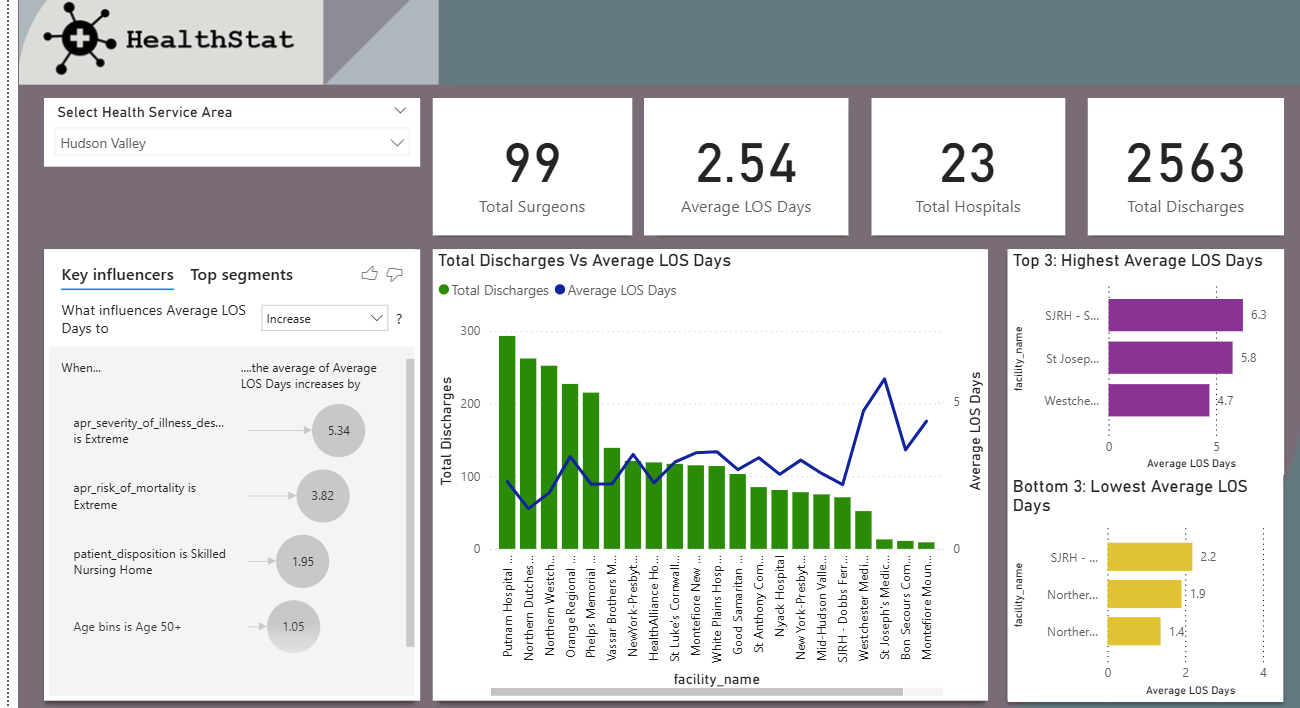

What the dashboard file says about the page in this screenshot:
{"tool":"powerbi","page":{"name":"LOS Comparison","canvas":[1280,720],"ordinal":1},"visuals":[{"type":"image","box":[0,0,1280.3,720.2],"z":0},{"type":"lineStackedColumnComboChart","title":"Total Discharges Vs Average LOS Days ","fields":{"Category":["hospital_discharges.facility_name"],"Y2":["_Measure.Average LOS Days"],"Y":["_Measure.Total Discharges"]},"box":[414.4,260.7,543.4,441.9],"z":1000},{"type":"card","fields":{"Values":["_Measure.Total Surgeons"]},"box":[414.4,112.5,194.9,134.5],"z":2000},{"type":"slicer","fields":{"Values":["hospital_discharges.health_service_area"]},"box":[34.3,112.5,367.8,67.2],"z":3000},{"type":"clusteredBarChart","title":"Bottom 3:  Lowest Average LOS Days ","fields":{"Category":["hospital_discharges.facility_name"],"Y":["_Measure.Average LOS Days"]},"box":[977.3,481.8,269.7,221.2],"z":4000},{"type":"clusteredBarChart","title":"Top 3: Highest Average LOS Days","fields":{"Category":["hospital_discharges.facility_name"],"Y":["_Measure.Average LOS Days"]},"box":[977,260.7,270.3,220.9],"z":5000},{"type":"card","fields":{"Values":["_Measure.Average LOS Days"]},"box":[621.6,112.5,200.3,134.5],"z":6000},{"type":"card","fields":{"Values":["_Measure.Total Hospitals"]},"box":[843.9,112.5,189.4,134.5],"z":7000},{"type":"card","fields":{"Values":["_Measure.Total Discharges"]},"box":[1055.2,112.5,192.1,134.5],"z":8000},{"type":"keyDriversVisual","fields":{"Target":["_Measure.Average LOS Days"],"ExplainBy":["hospital_discharges.apr_risk_of_mortality","hospital_discharges.apr_severity_of_illness_description","hospital_discharges.ccs_diagnosis_description","hospital_discharges.patient_disposition","hospital_discharges.gender","hospital_discharges.Age bins","surgical_program_size_summary.Surgical Program Size","hospital_discharges.health_service_area"]},"box":[34.3,260.7,367.8,441.9],"z":9000},{"type":"pageNavigator","box":[423.3,31,823,49.7],"z":9001}]}

Visuals, with their boxes on the page's 1280x720 design canvas (x1, y1, x2, y2). These are canvas units, not pixel positions in the 1300x708 screenshot, which may show the page scaled, cropped or inside an application window:
image: (0,0,1280,720)
"Total Discharges Vs Average LOS Days " lineStackedColumnComboChart: (414,261,958,703)
card - _Measure.Total Surgeons: (414,112,609,247)
slicer - hospital_discharges.health_service_area: (34,112,402,180)
"Bottom 3:  Lowest Average LOS Days " clusteredBarChart: (977,482,1247,703)
"Top 3: Highest Average LOS Days" clusteredBarChart: (977,261,1247,482)
card - _Measure.Average LOS Days: (622,112,822,247)
card - _Measure.Total Hospitals: (844,112,1033,247)
card - _Measure.Total Discharges: (1055,112,1247,247)
keyDriversVisual - _Measure.Average LOS Days x hospital_discharges.apr_risk_of_mortality: (34,261,402,703)
pageNavigator: (423,31,1246,81)
